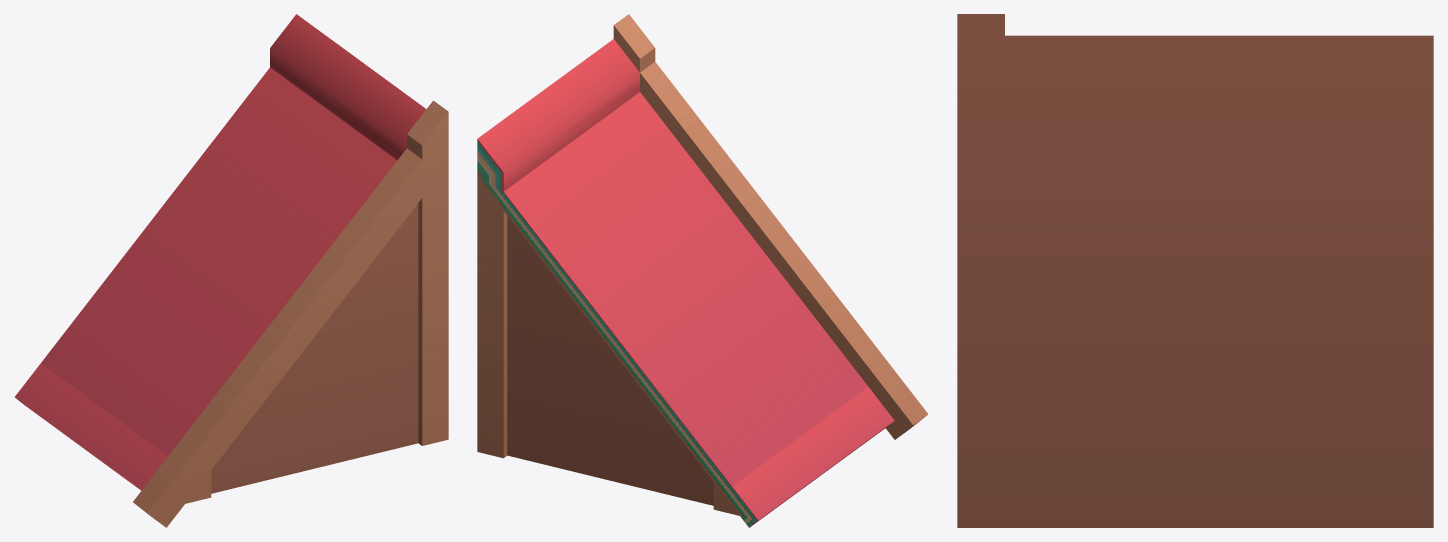
Rendered from roof-high-right.fbx.
3 views of the same model, side by side, from view 1: azimuth 30°, elevation 25°; view 2: azimuth 150°, elevation 25°; view 3: azimuth 270°, elevation 25° (orthographic). The views are drawn at different scales.
Visible parts, largest first — view 1: roof-high-right; view 2: roof-high-right; view 3: roof-high-right.
Part boxes in pixels (bbox=[...]): roof-high-right: bbox=[15, 14, 448, 527]; roof-high-right: bbox=[477, 14, 928, 527]; roof-high-right: bbox=[957, 14, 1433, 527].
Bounding box in the file's own units: 114 × 126 × 100.
Materials: 1 (1 with a texture image).
